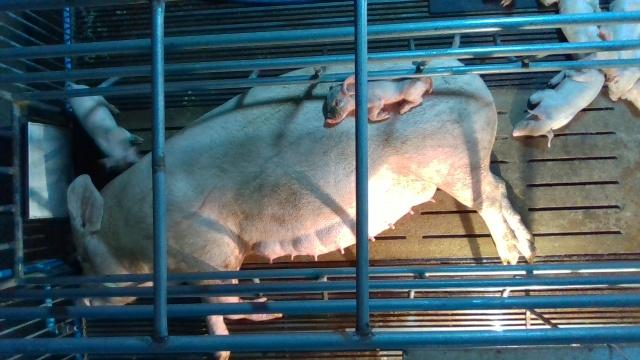piglet: (507, 68, 606, 149), (67, 81, 145, 170), (322, 73, 435, 128), (582, 0, 640, 102), (545, 0, 607, 42)
sow-sleep-lactate: (67, 55, 535, 360)
